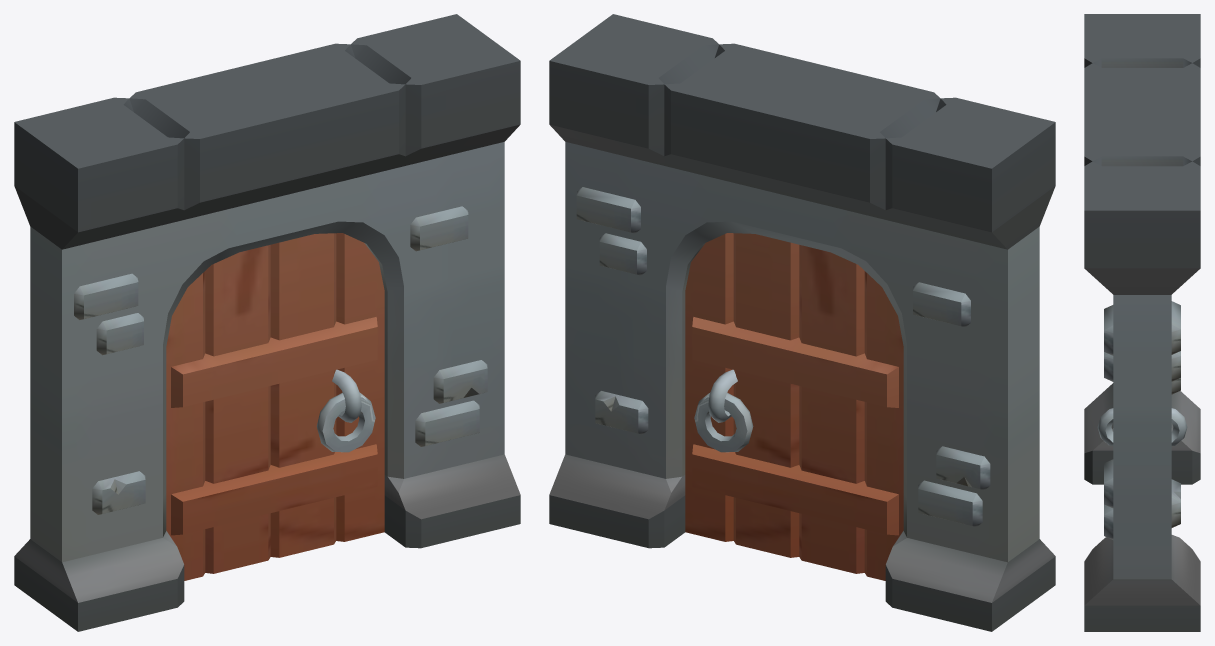
File: dng_doorway.glb
The picture shows the model from 3 angles, left to right: view 1: azimuth 30°, elevation 25°; view 2: azimuth 150°, elevation 25°; view 3: azimuth 270°, elevation 25°; orthographic projection. The views are drawn at different scales.
Parts seen in each view (by area): view 1: wall_doorway; view 2: wall_doorway; view 3: wall_doorway.
Boxes of the visible parts, x1,y1,x2,y2 form: wall_doorway: (14,14,520,631); wall_doorway: (549,14,1055,631); wall_doorway: (1084,14,1200,631).
Size of the model in its own units: 4 by 4 by 1.
1 material, 1 textured.
